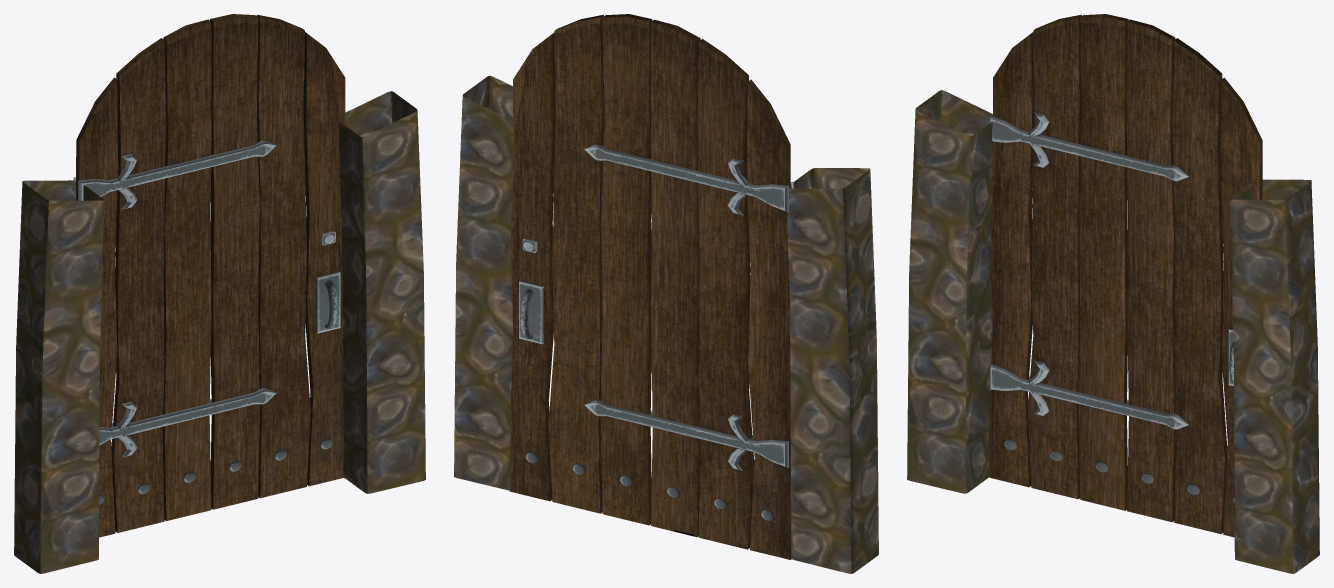
The model's file is puerta_parteBaja.obj.
The picture shows the model from 3 angles, left to right: view 1: azimuth 30°, elevation 25°; view 2: azimuth 150°, elevation 25°; view 3: azimuth 330°, elevation 25°; orthographic projection. The views are drawn at different scales.
Visible parts, largest first — view 1: Cube_004, Cube_000; view 2: Cube_004, Cube_000; view 3: Cube_004, Cube_000.
Part boxes in pixels (box(x1,y1,x2,y2)): Cube_004: box(73, 14, 345, 537); Cube_000: box(14, 91, 425, 573); Cube_004: box(509, 14, 793, 559); Cube_000: box(454, 76, 878, 573); Cube_004: box(989, 14, 1262, 537); Cube_000: box(907, 90, 1319, 573).
Bounding box in the file's own units: 1043 × 1257 × 169.
1 material, 1 textured.
